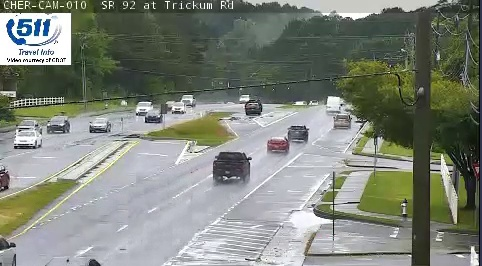car: (213, 152, 250, 179), (288, 125, 309, 142), (267, 137, 289, 152), (334, 114, 350, 128)
